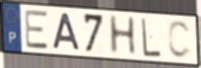7: (82, 12, 105, 54)
A: (51, 12, 82, 52)
C: (167, 19, 193, 61)
E: (24, 10, 51, 51)
H: (107, 13, 138, 56)
L: (140, 17, 163, 59)
